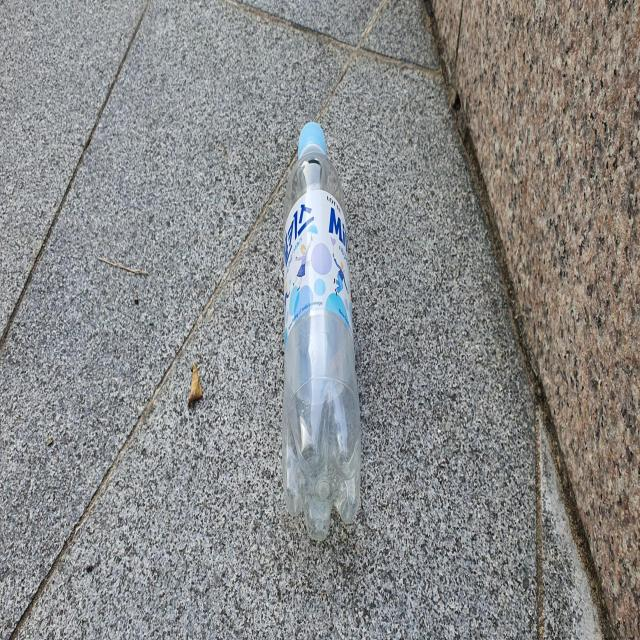plastic: (283, 120, 361, 540)
